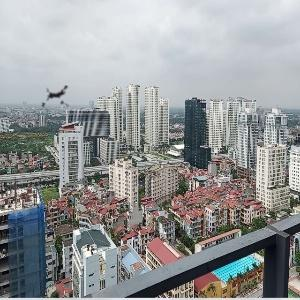drone: (29, 70, 87, 128)
